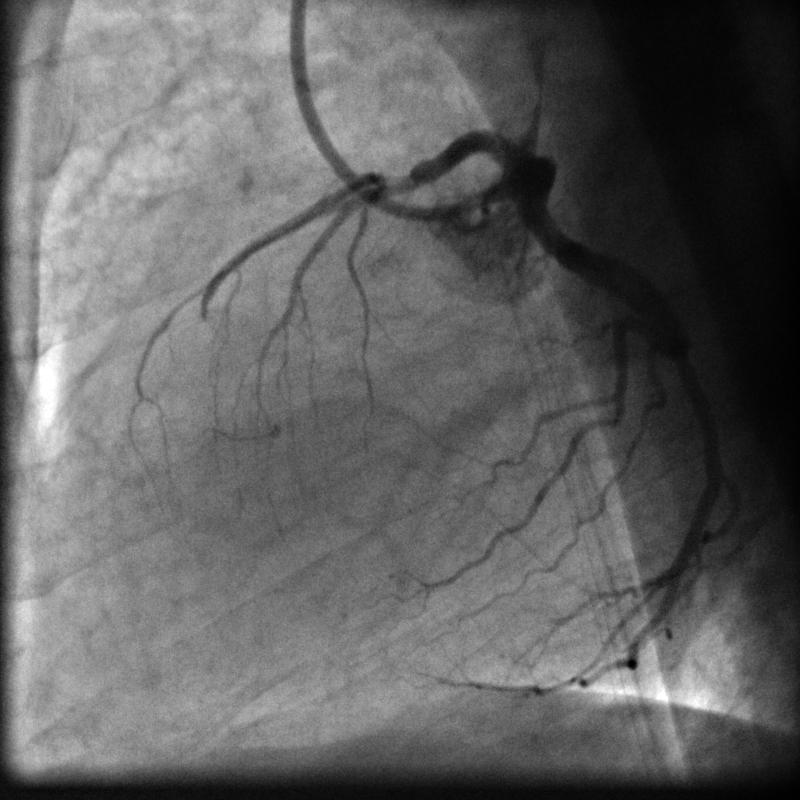Stenosis: (368, 162, 423, 201)
